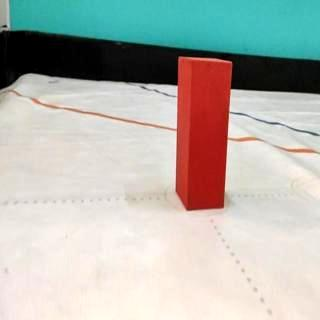redbox: (174, 56, 233, 210)
